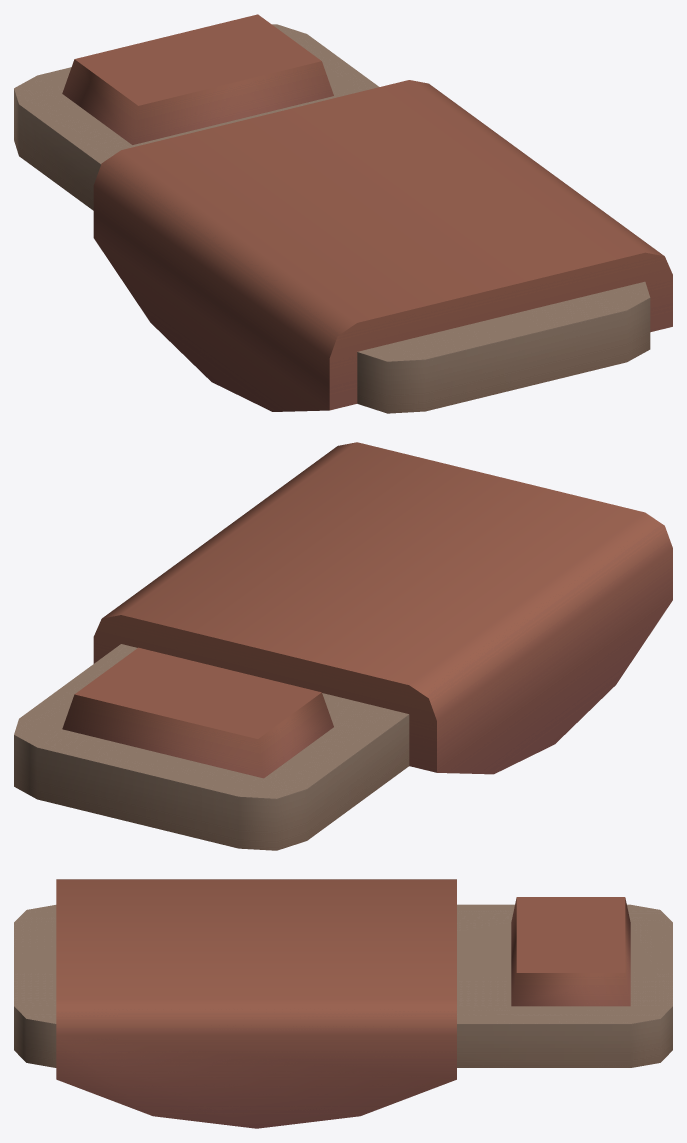
File: bedroll.glb
The picture shows the model from 3 angles, top to bottom: view 1: azimuth 30°, elevation 25°; view 2: azimuth 150°, elevation 25°; view 3: azimuth 270°, elevation 25°; orthographic projection. The views are drawn at different scales.
Visible parts, largest first — view 1: blanket, bedroll; view 2: blanket, bedroll; view 3: blanket, bedroll.
Part boxes in pixels (bbox=[...]): blanket: bbox=[93, 80, 672, 411]; bedroll: bbox=[14, 14, 650, 413]; blanket: bbox=[93, 442, 672, 774]; bedroll: bbox=[14, 644, 409, 850]; blanket: bbox=[56, 879, 456, 1128]; bedroll: bbox=[14, 897, 672, 1067].
Bounding box in the file's own units: 0.8226 × 0.3308 × 1.61.
1 material, 1 textured.
